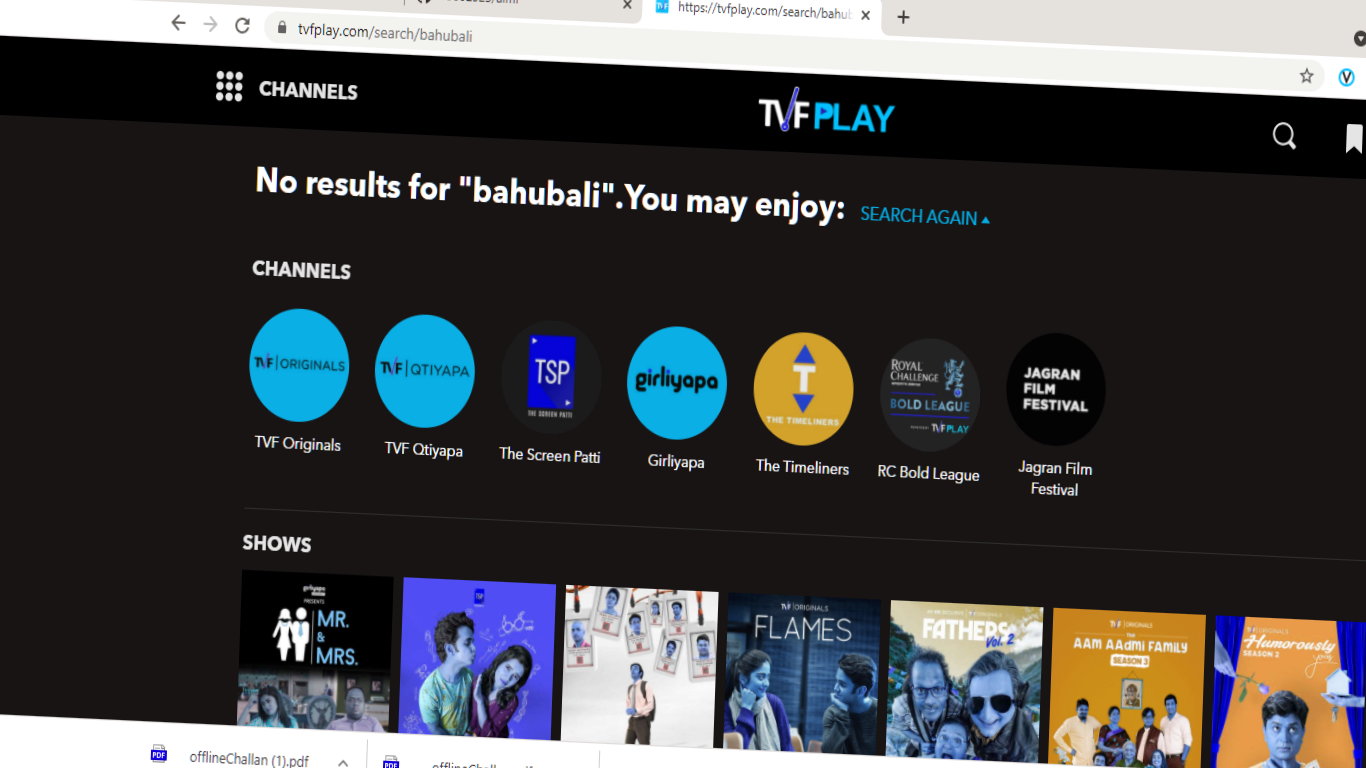noresultsfound: (244, 141, 1078, 251)
searchicon: (1252, 109, 1327, 166)
